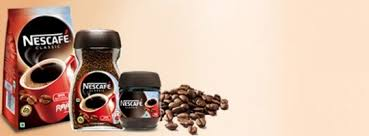nescafe-classic/gold-big: (6, 4, 68, 132)
nescafe-classic/gold-med: (68, 28, 123, 128)
nescafe-classic/gold-small: (119, 69, 162, 128)
